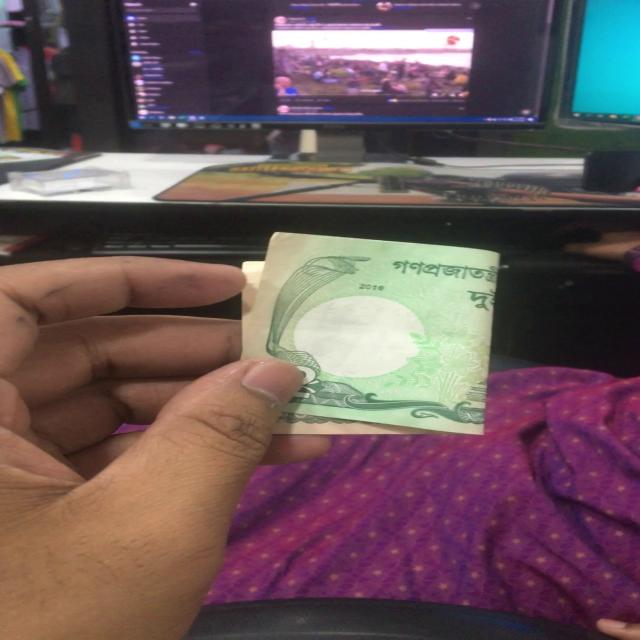Taka: (243, 227, 507, 439)
